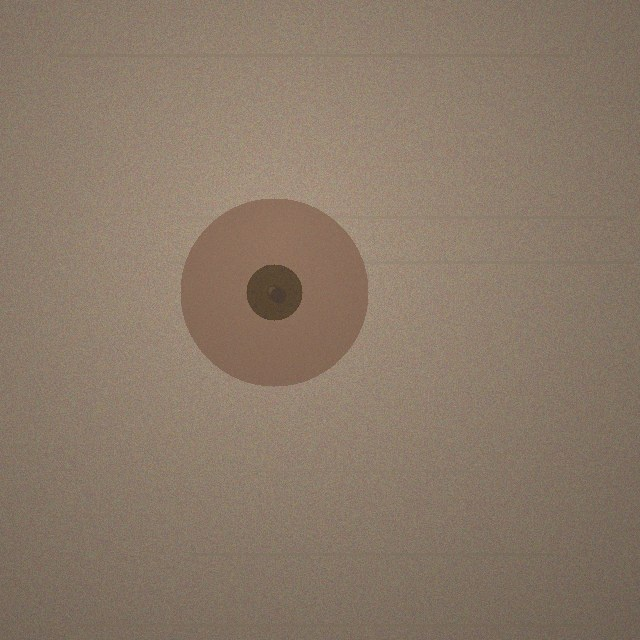cold_weld: (180, 198, 368, 386)
